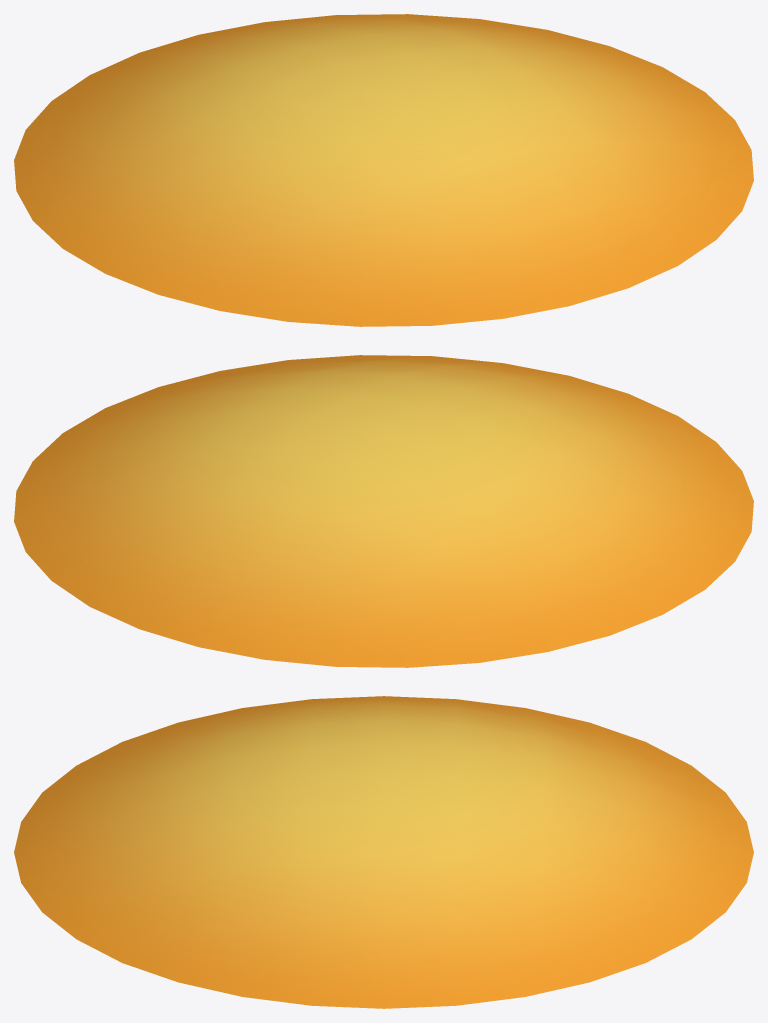
The model's file is ground_001.glb.
3 renders of one model, top to bottom at view 1: azimuth 30°, elevation 25°; view 2: azimuth 150°, elevation 25°; view 3: azimuth 270°, elevation 25°, orthographic.
Parts seen in each view (by area): view 1: ground_001; view 2: ground_001; view 3: ground_001.
Part boxes in pixels (bbox=[...]): ground_001: bbox=[14, 14, 753, 326]; ground_001: bbox=[14, 355, 753, 667]; ground_001: bbox=[14, 696, 753, 1008].
Size of the model in its own units: 24.15 by 2.8 by 24.15.
Materials: 1 (1 with a texture image).
